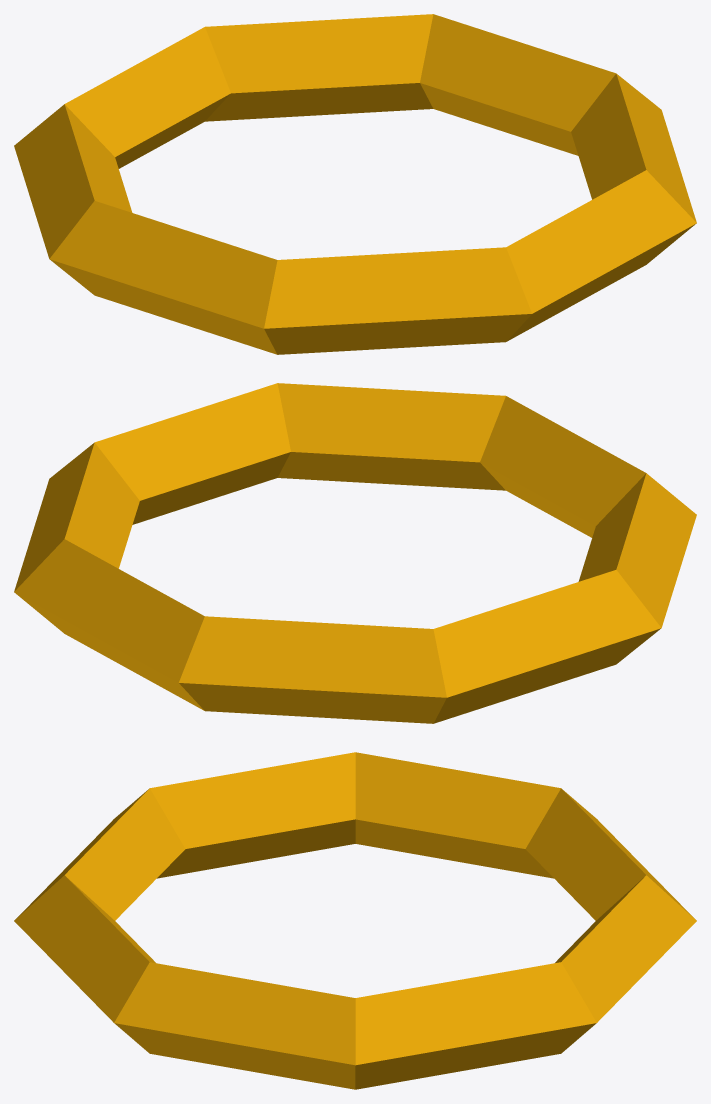
Rendered from Ring_2.fbx.
3 views of the same model, one above another, from view 1: azimuth 30°, elevation 25°; view 2: azimuth 150°, elevation 25°; view 3: azimuth 270°, elevation 25° (orthographic). The views are drawn at different scales.
Visible parts, largest first — view 1: Ring_2; view 2: Ring_2; view 3: Ring_2.
Part boxes in pixels (left/top/right/bottom): Ring_2: left=14, top=14, right=696, bottom=354; Ring_2: left=14, top=383, right=696, bottom=723; Ring_2: left=14, top=752, right=696, bottom=1089.
Bounding box in the file's own units: 3.58 × 0.53 × 3.58.
